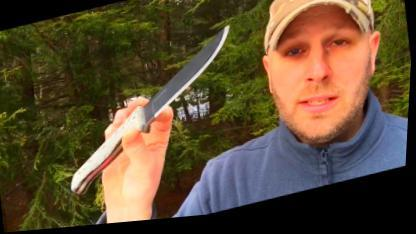knife: (99, 23, 249, 161)
